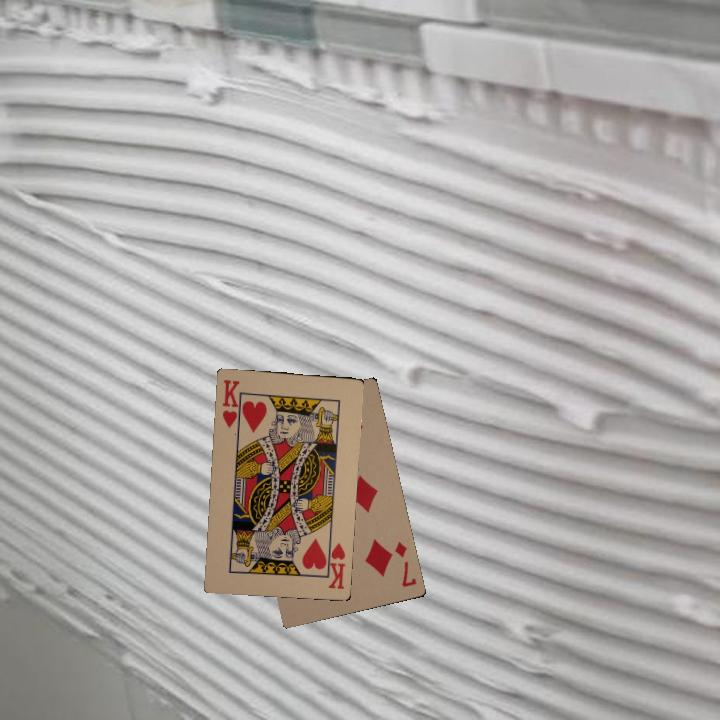7d: (391, 538, 419, 590)
Kh: (321, 537, 348, 592), (218, 375, 244, 431)
